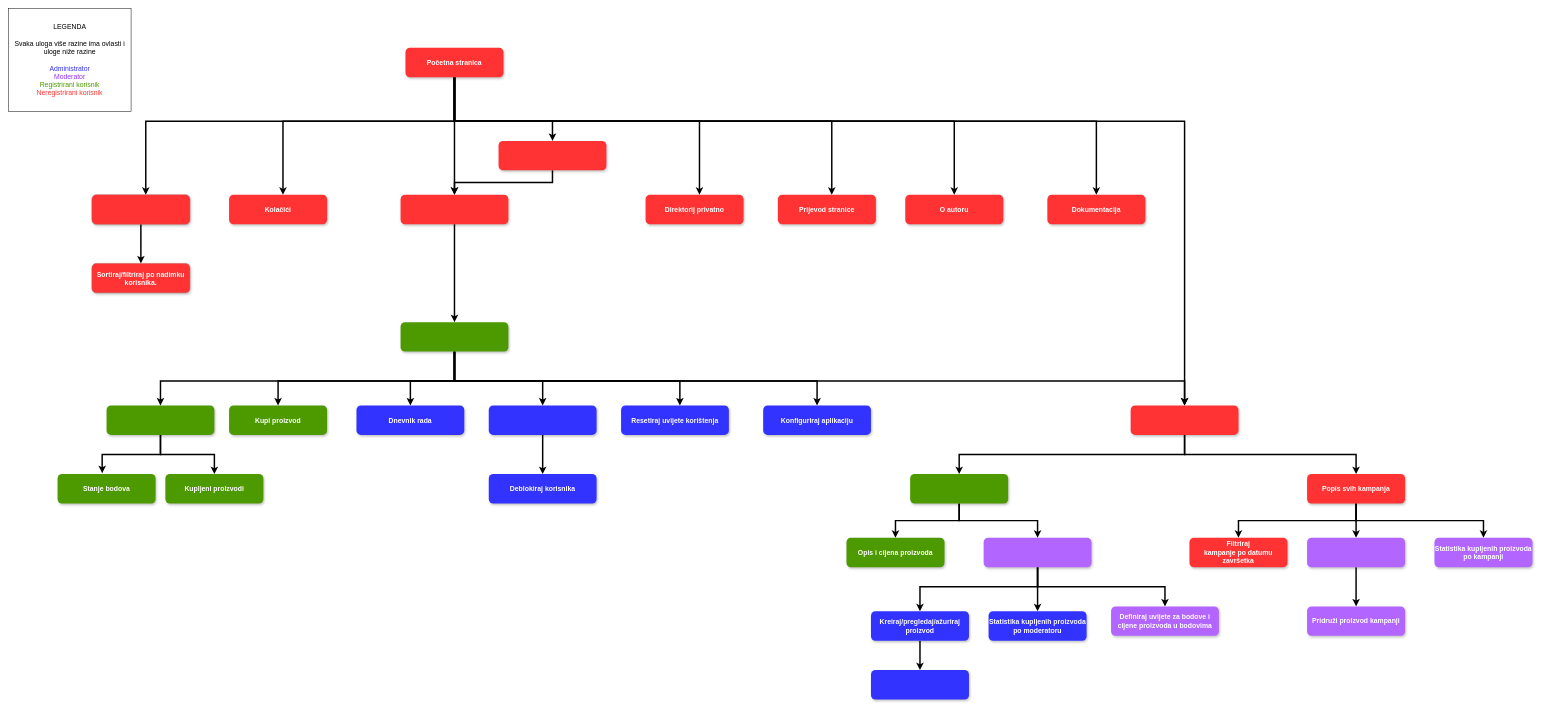
Image size: 1544x711. Some labels were removed from this diagram. Here are the shapes that lost their labels. From the top down, the centre of each, then its label:
the point at 552,156: Registracija
the point at 141,210: Popis korisnika
the point at 454,210: Prijava
the point at 454,337: Početna registrirani korisnik
the point at 160,420: Kreiraj/pregledaj profil
the point at 543,420: Blokirani korisnici
the point at 1184,420: Kampanje
the point at 959,489: Popis otvorenih/aktivnih kampanja
the point at 1037,553: Popis proizvoda
the point at 1356,553: Kreiraj/pregledaj/ažuriraj kampanju
the point at 920,685: Dodijeli moderatora
